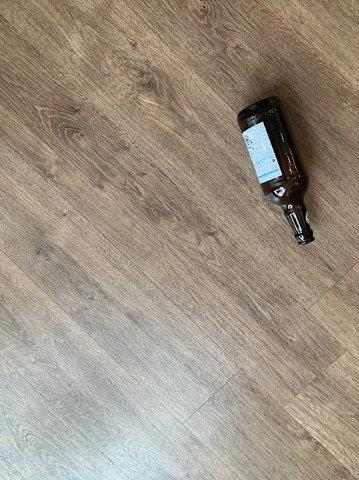botolkaca: (238, 98, 315, 245)
